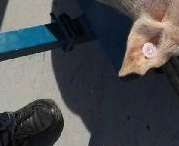text: (130, 36, 169, 68)
